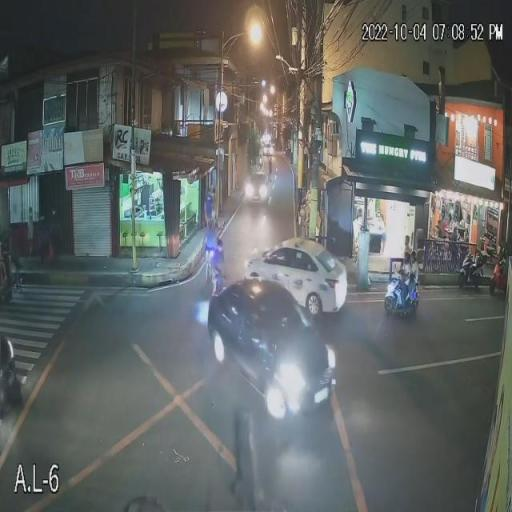helmet: (403, 252, 411, 264), (409, 251, 417, 262)
motorcycle: (382, 279, 420, 313)
rider: (399, 265, 412, 315), (408, 263, 419, 306)
